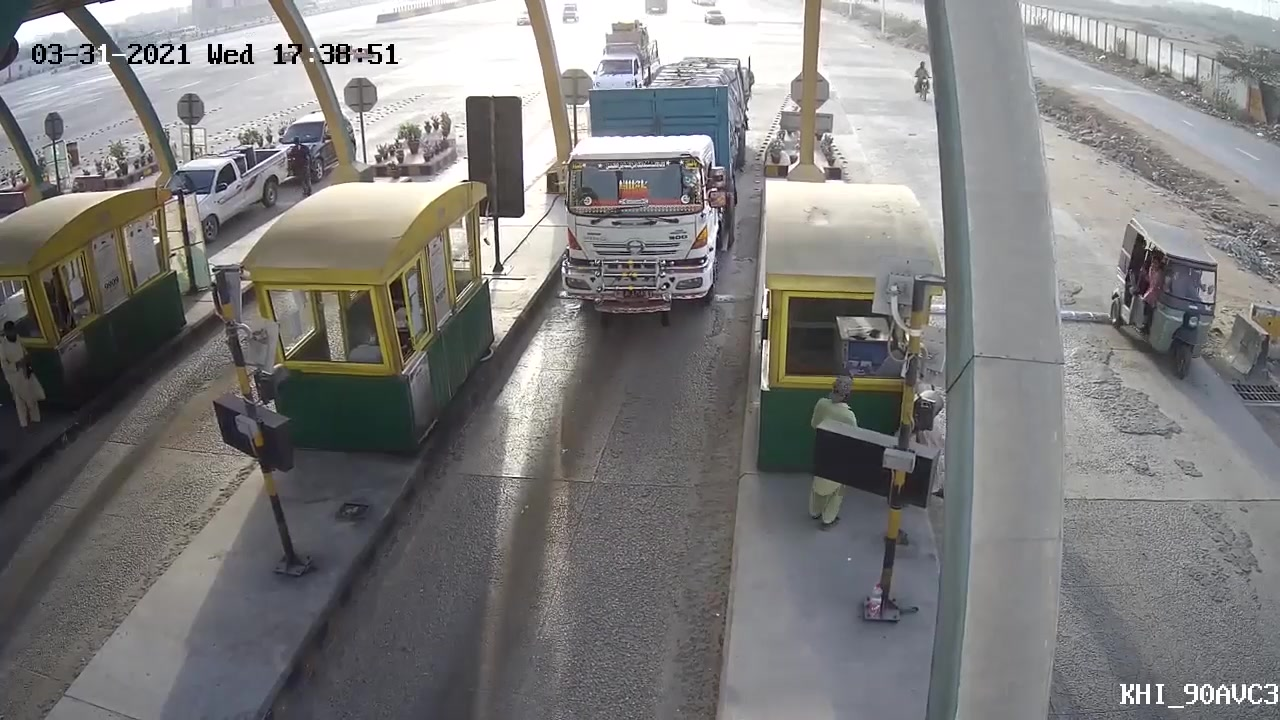F6: (546, 85, 740, 340)
